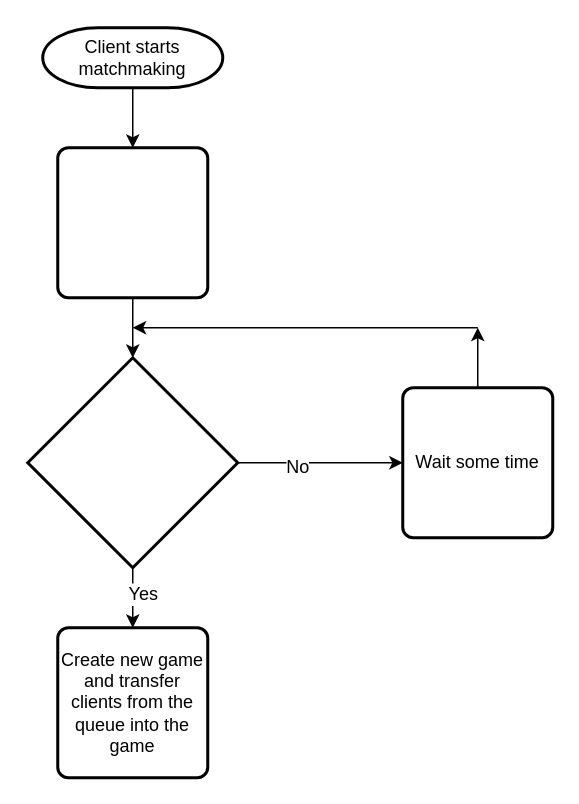
Image size: 579x804. Some labels were removed from this diagram. Here are the shapes that lost their labels. From the top down, the centre of each, then its label:
At point (132, 222): "Client sends server a message to add them to the queue".
At point (132, 462): "Are there at least two clients in the queue?".
